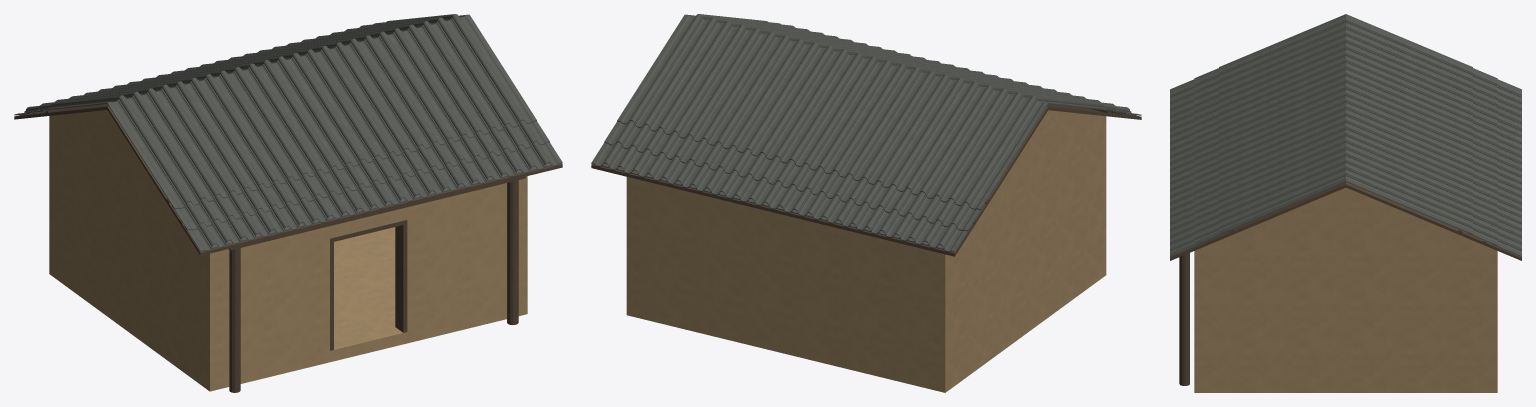
3 views of the same model, side by side, from view 1: azimuth 30°, elevation 25°; view 2: azimuth 150°, elevation 25°; view 3: azimuth 270°, elevation 25° (orthographic). The views are drawn at different scales.
Parts seen in each view (by area): view 1: H64__LY_P01_tile, H64__LY_P01_earth, H64__LY_P01_timber; view 2: H64__LY_P01_earth, H64__LY_P01_tile, H64__LY_P01_timber; view 3: H64__LY_P01_tile, H64__LY_P01_earth, H64__LY_P01_timber.
Boxes of the visible parts, box(x1,y1,x2,y2) form: H64__LY_P01_tile: box(14, 14, 562, 251); H64__LY_P01_earth: box(49, 110, 527, 391); H64__LY_P01_timber: box(14, 104, 562, 392); H64__LY_P01_earth: box(626, 110, 1106, 392); H64__LY_P01_tile: box(591, 14, 1141, 252); H64__LY_P01_timber: box(591, 104, 1141, 256); H64__LY_P01_tile: box(1170, 14, 1521, 256); H64__LY_P01_earth: box(1194, 187, 1497, 392); H64__LY_P01_timber: box(1170, 182, 1521, 385).
Bounding box in the file's own units: 7.3 × 4.61 × 6.5.
Materials: 3 (3 with a texture image).
